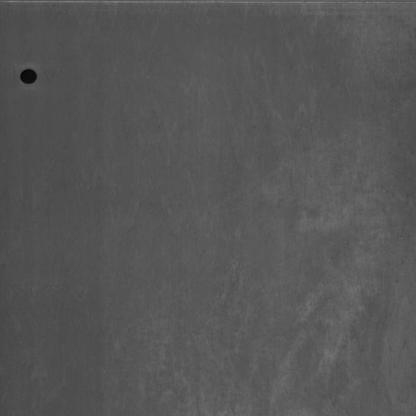punching_hole: (18, 66, 42, 90)
